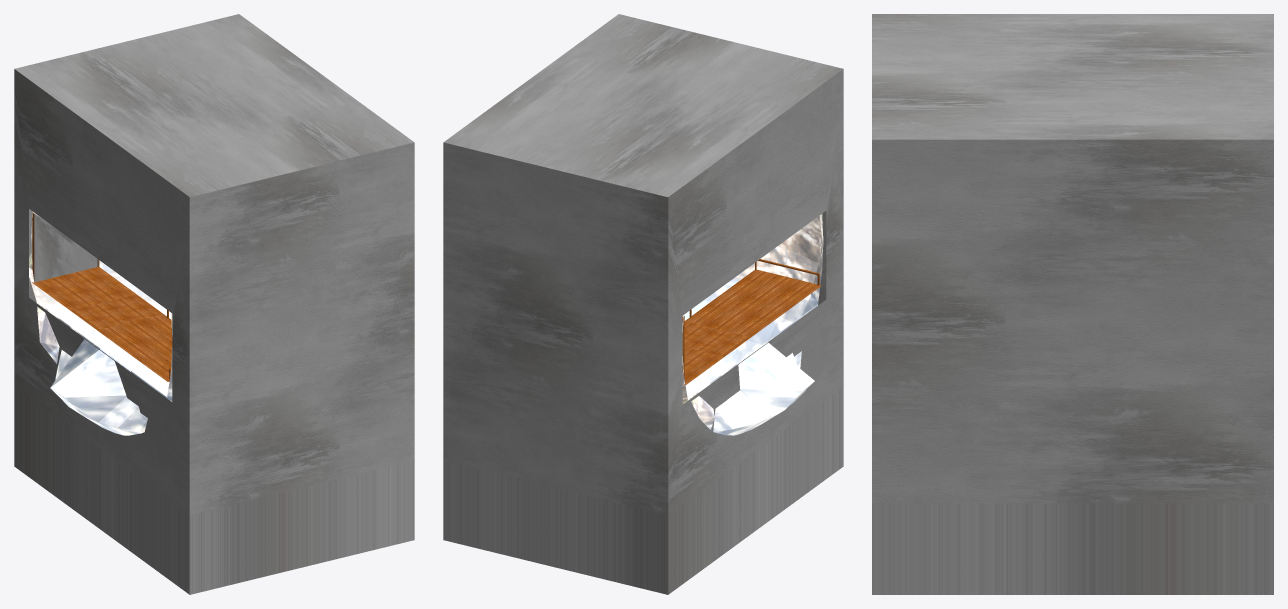
The model's file is 2_4SBNFDeck.glb.
The picture shows the model from 3 angles, left to right: view 1: azimuth 30°, elevation 25°; view 2: azimuth 150°, elevation 25°; view 3: azimuth 270°, elevation 25°; orthographic projection. The views are drawn at different scales.
Parts seen in each view (by area): view 1: StreetviewCover, Deck, Streetview; view 2: StreetviewCover, Streetview, Deck; view 3: StreetviewCover.
Part boxes in pixels (x1,y1,x2,y2): StreetviewCover: [14, 14, 414, 594]; Deck: [32, 213, 172, 381]; Streetview: [29, 211, 172, 435]; StreetviewCover: [443, 14, 843, 594]; Streetview: [682, 214, 823, 435]; Deck: [682, 259, 821, 384]; StreetviewCover: [872, 14, 1273, 594].
Size of the model in its own units: 27.96 by 38.75 by 31.
Materials: 3 (2 with a texture image).
